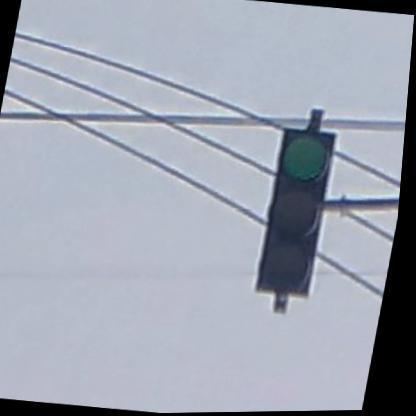green: (258, 128, 338, 298)
